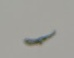microplastic: (24, 30, 56, 46)
